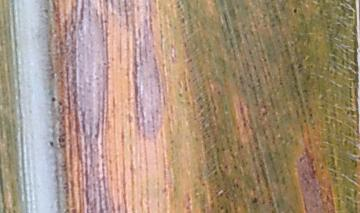tarspot: (250, 197, 259, 204), (48, 140, 55, 147), (50, 96, 56, 102), (293, 6, 298, 13), (58, 102, 63, 106)
